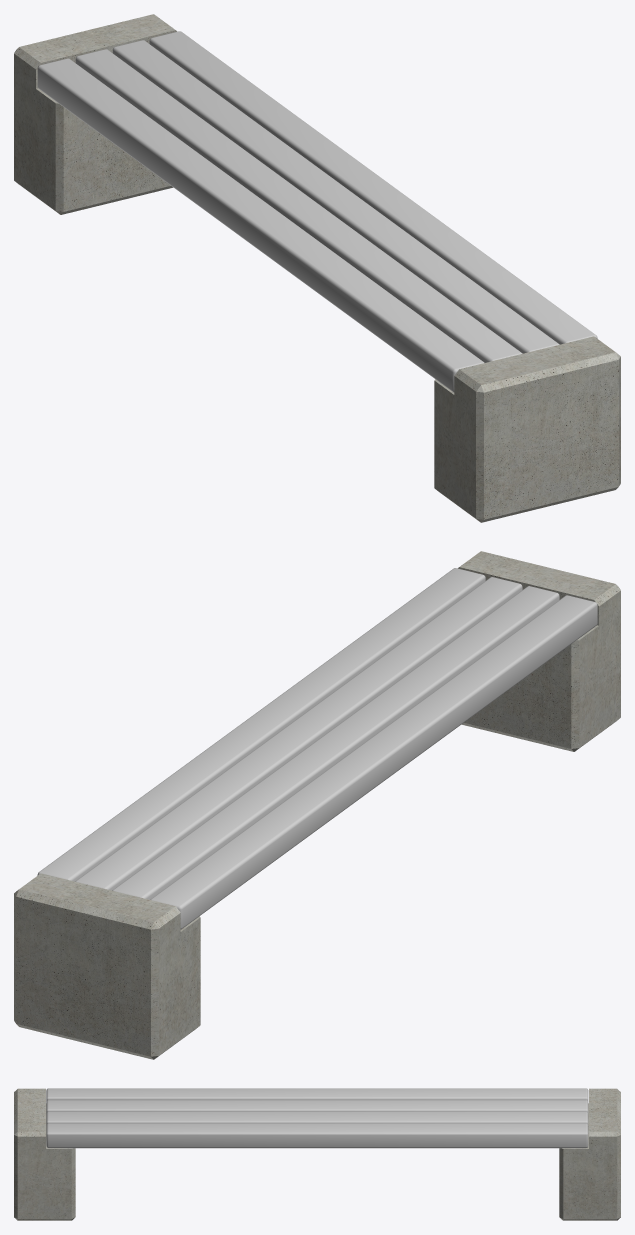
The model's file is Bench01_1.FBX.
3 renders of one model, top to bottom at view 1: azimuth 30°, elevation 25°; view 2: azimuth 150°, elevation 25°; view 3: azimuth 270°, elevation 25°, orthographic. The views are drawn at different scales.
Visible parts, largest first — view 1: Wood, Concrete; view 2: Wood, Concrete; view 3: Wood, Concrete.
Part boxes in pixels (x1=…): Wood: x1=37, y1=31, x2=597, y2=392; Concrete: x1=14, y1=14, x2=620, y2=522; Wood: x1=37, y1=568, x2=597, y2=929; Concrete: x1=14, y1=551, x2=620, y2=1059; Wood: x1=46, y1=1088, x2=588, y2=1148; Concrete: x1=14, y1=1088, x2=620, y2=1220.
Size of the model in its own units: 17.35 by 15.75 by 97.05.
